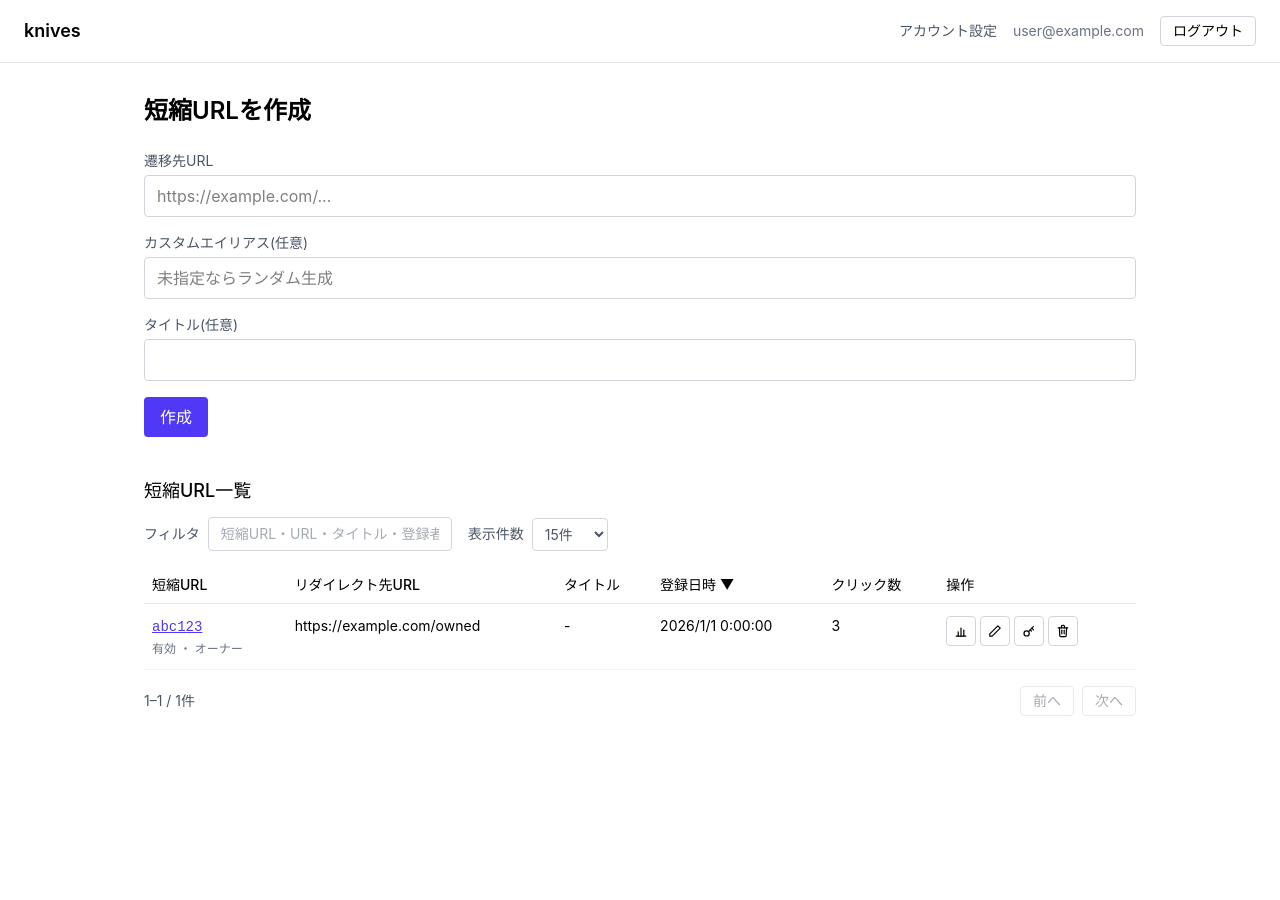
it: DashboardPage › deletes a URL after confirmation
The width and height of the screenshot is (1280, 900).
Expected: the link "abc123" is shown, [152, 619, 202, 635]
What coordinates should you click on to do the following:
click the button named "削除"
I would click on:
 (1063, 631)
Its box is [1048, 616, 1078, 646].
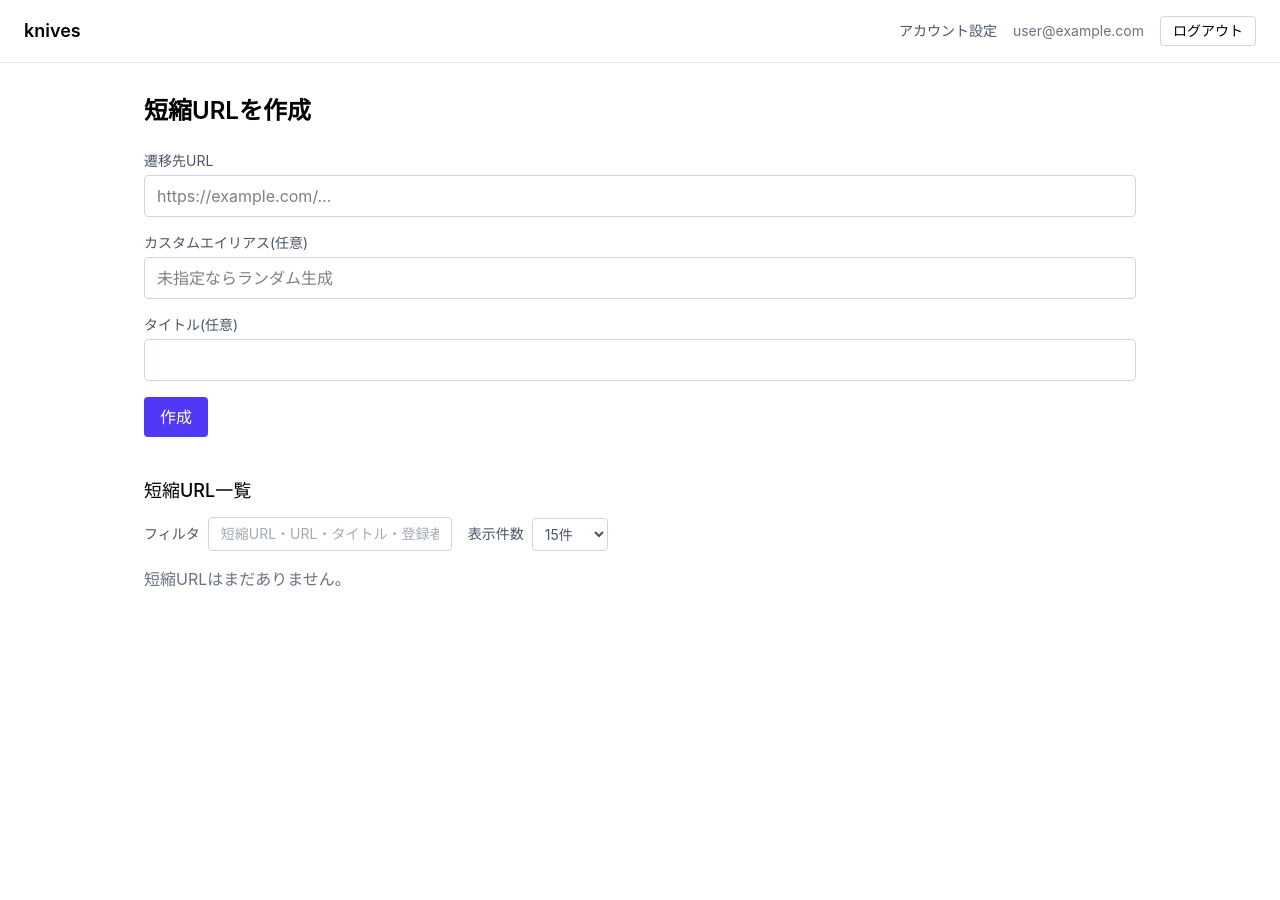
Expected: the link "abc123" is gone
